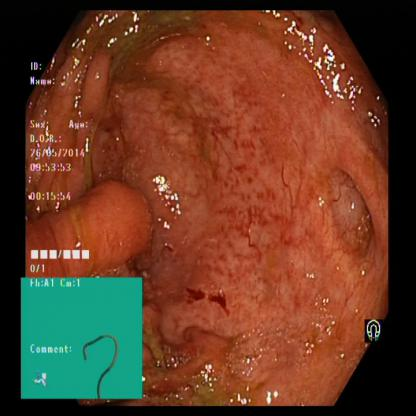Labels: (25, 57, 102, 276), (22, 280, 143, 402), (357, 306, 389, 349)
Polyps: (312, 170, 381, 256), (86, 194, 154, 258)
